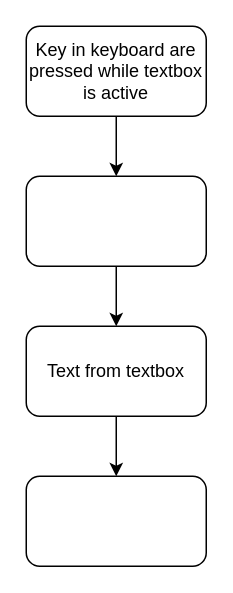
This 233x593 diagram has some shape labels left out. Here are the shapes that lost their labels. From the top down, the centre of each, then its label:
point 115,220: Calls function: updateText()
point 115,520: Show text in screen
